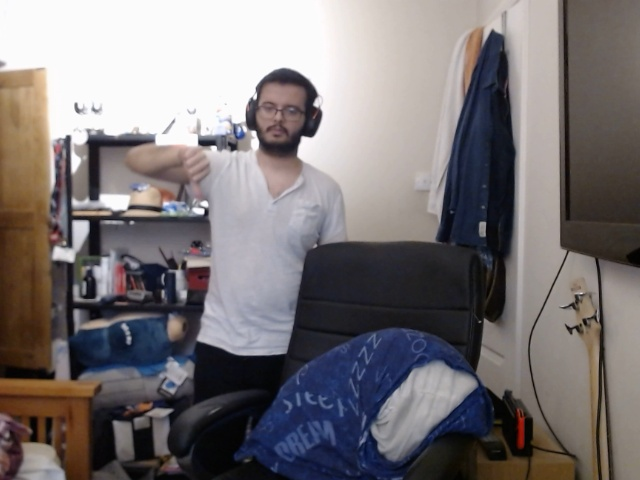Thumbs down: (171, 143, 216, 210)
